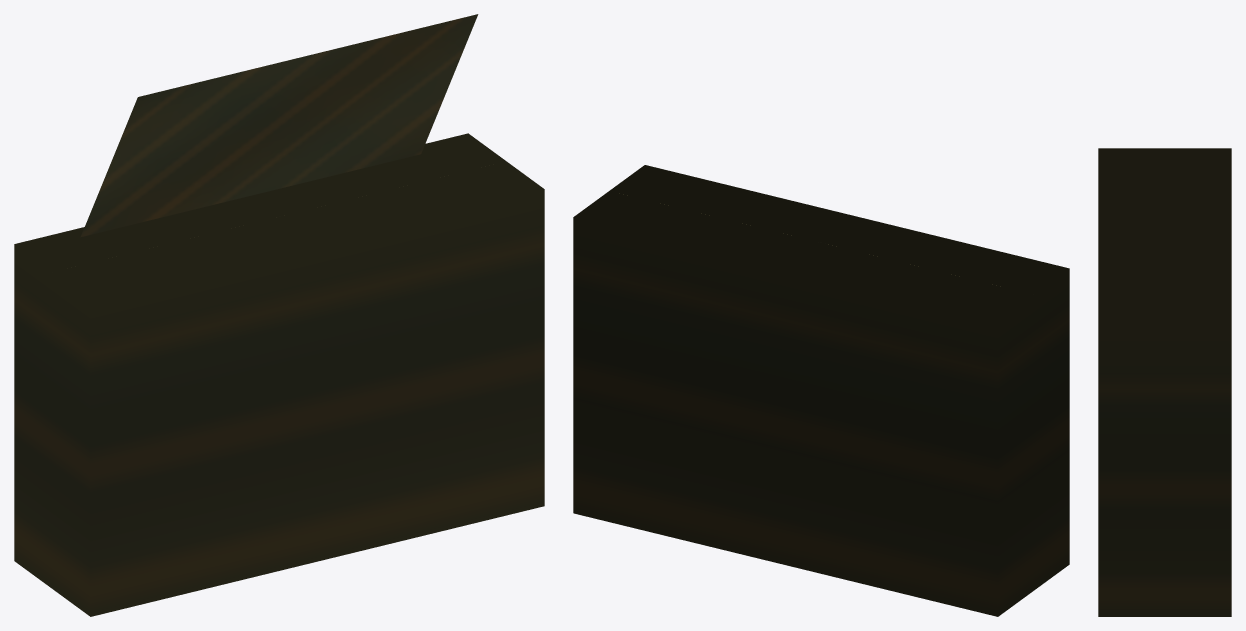
The model's file is trap_t3_directional_mine.glb.
3 views of the same model, side by side, from view 1: azimuth 30°, elevation 25°; view 2: azimuth 150°, elevation 25°; view 3: azimuth 270°, elevation 25° (orthographic). The views are drawn at different scales.
Visible parts, largest first — view 1: trap_t3_directional_mine; view 2: trap_t3_directional_mine; view 3: trap_t3_directional_mine.
Part boxes in pixels (x1,y1,x2,y2): trap_t3_directional_mine: (14, 14, 544, 616); trap_t3_directional_mine: (573, 165, 1069, 616); trap_t3_directional_mine: (1098, 148, 1231, 616).
Size of the model in its own units: 0.24 by 0.252 by 0.07.
1 material, 1 textured.
